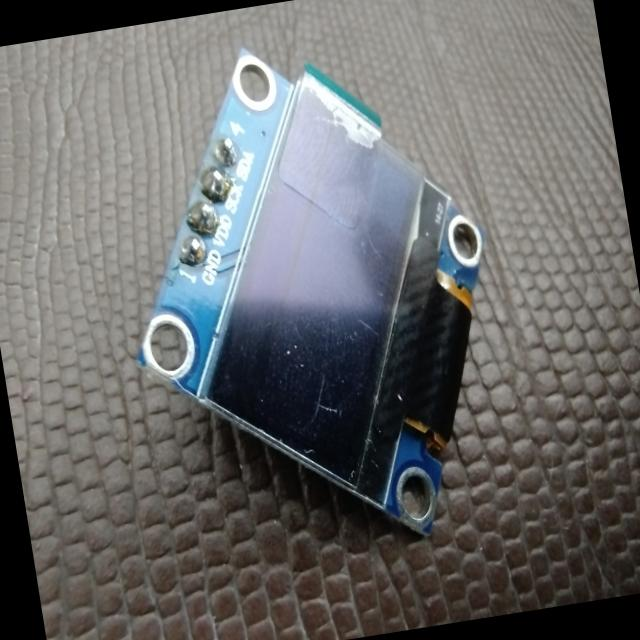oled: (91, 6, 545, 590)
